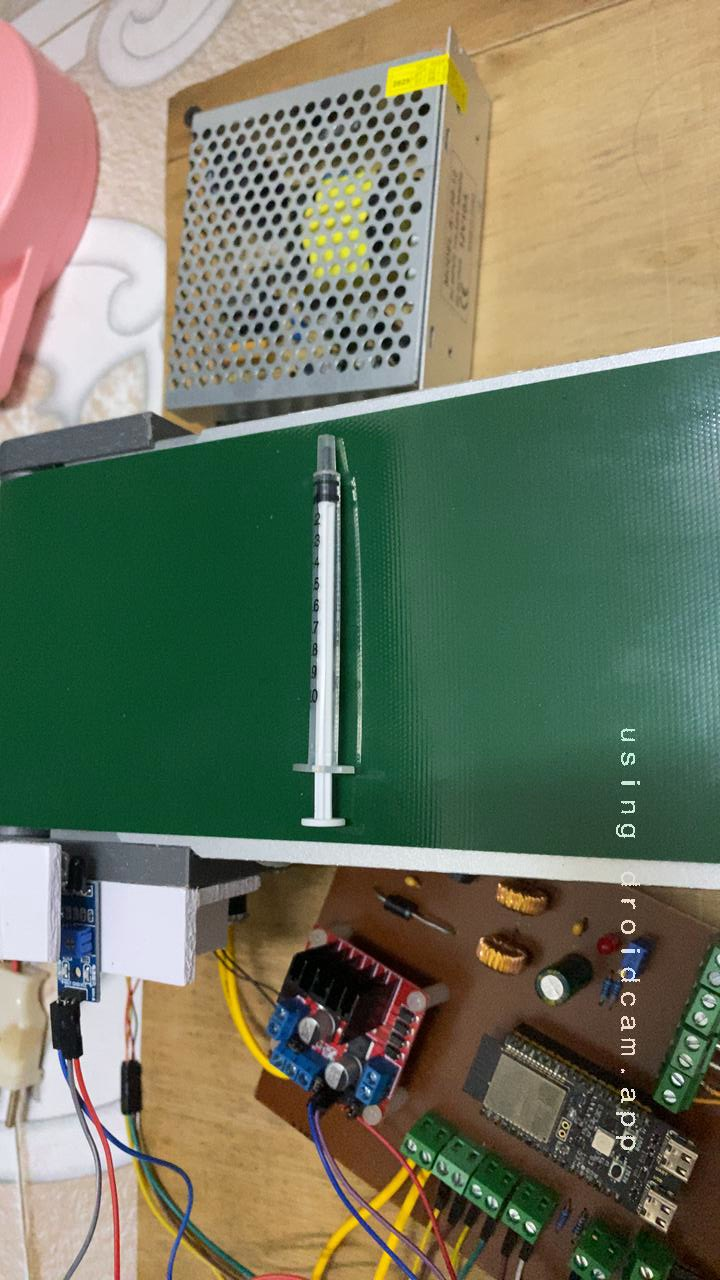syringe: (161, 437, 479, 860)
